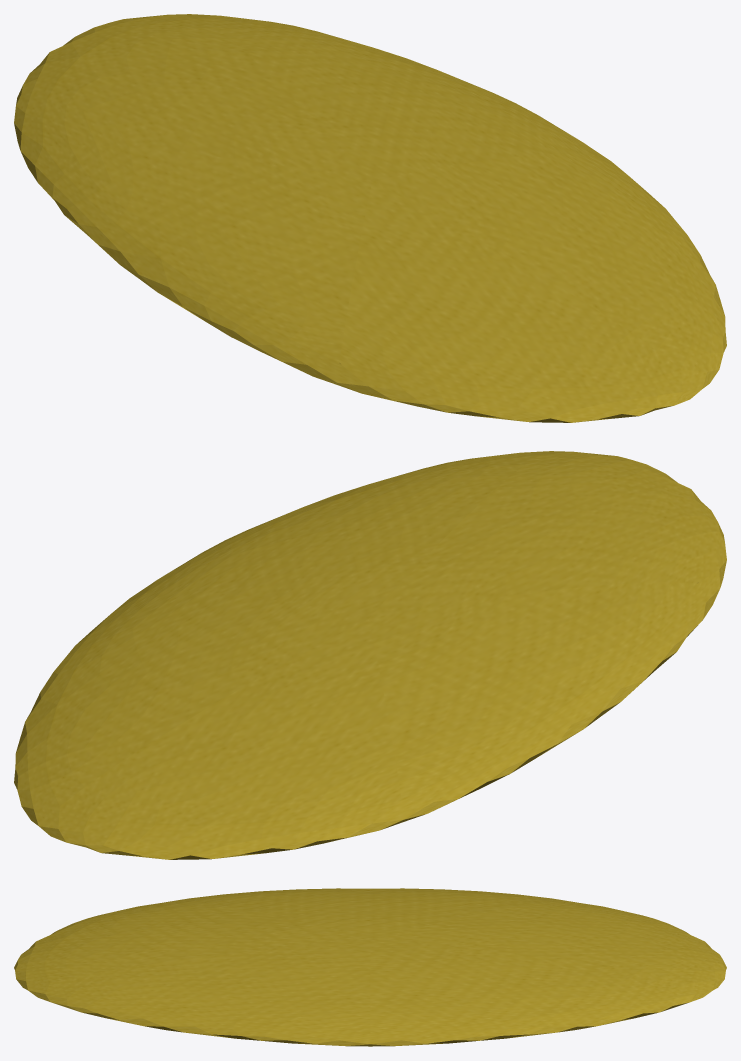
The model's file is beach_island_2.glb.
3 views of the same model, one above another, from view 1: azimuth 30°, elevation 25°; view 2: azimuth 150°, elevation 25°; view 3: azimuth 270°, elevation 25° (orthographic). The views are drawn at different scales.
Parts seen in each view (by area): view 1: Icosphere; view 2: Icosphere; view 3: Icosphere.
Boxes of the visible parts, <box> form: Icosphere: <box>14,14,726,422</box>; Icosphere: <box>14,451,726,859</box>; Icosphere: <box>14,888,726,1046</box>.
Bounding box in the file's own units: 17.56 × 2.86 × 34.33.
Materials: 2 (1 with a texture image).
